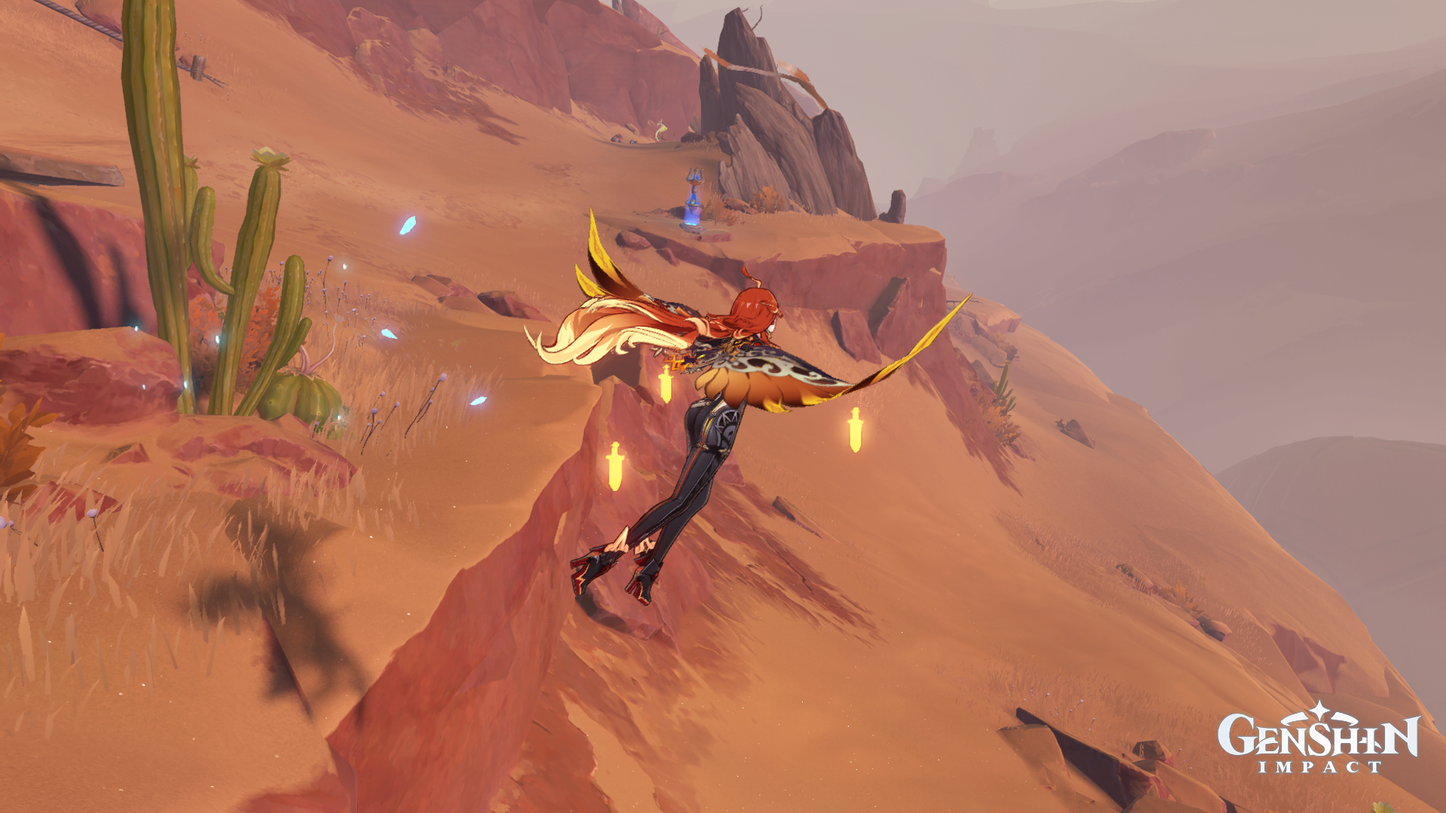Human: (517, 204, 972, 610)
Waypoint: (680, 161, 707, 230)
